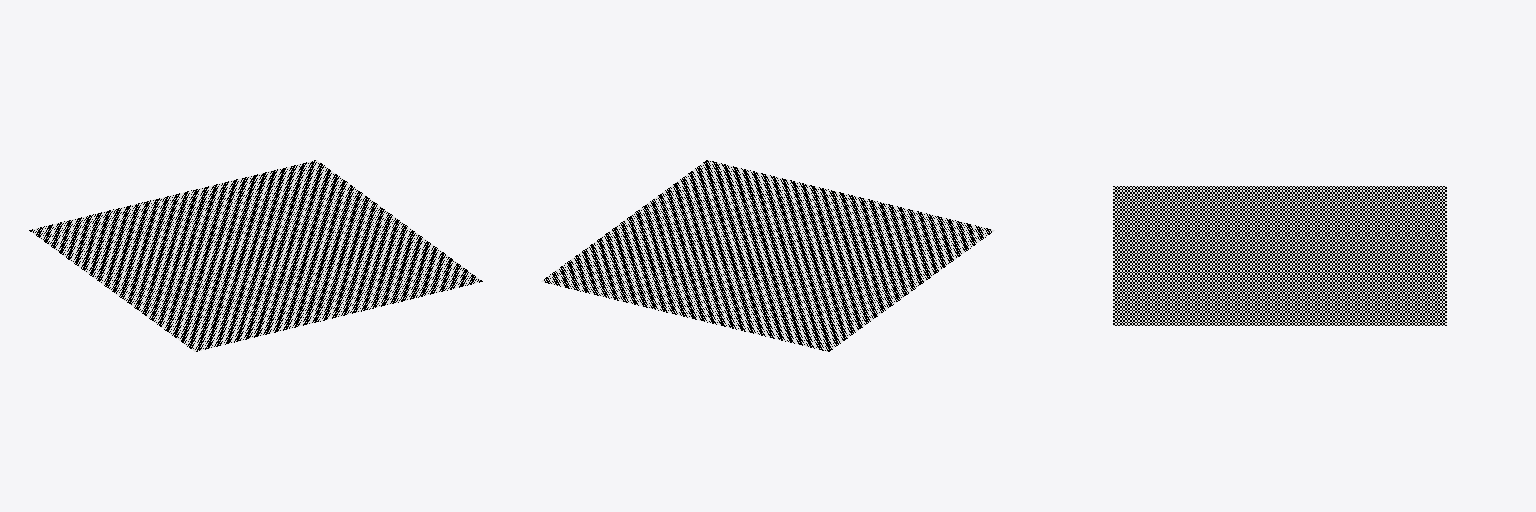
3 views of the same model, side by side, from view 1: azimuth 30°, elevation 25°; view 2: azimuth 150°, elevation 25°; view 3: azimuth 270°, elevation 25° (orthographic).
Visible parts, largest first — view 1: kitchentile; view 2: kitchentile; view 3: kitchentile.
Part boxes in pixels (x1,y1,x2,y2): kitchentile: (29, 160, 482, 351); kitchentile: (541, 160, 994, 351); kitchentile: (1113, 186, 1446, 325).
Size of the model in its own units: 1 by 0 by 1.
1 materials, 1 textured.